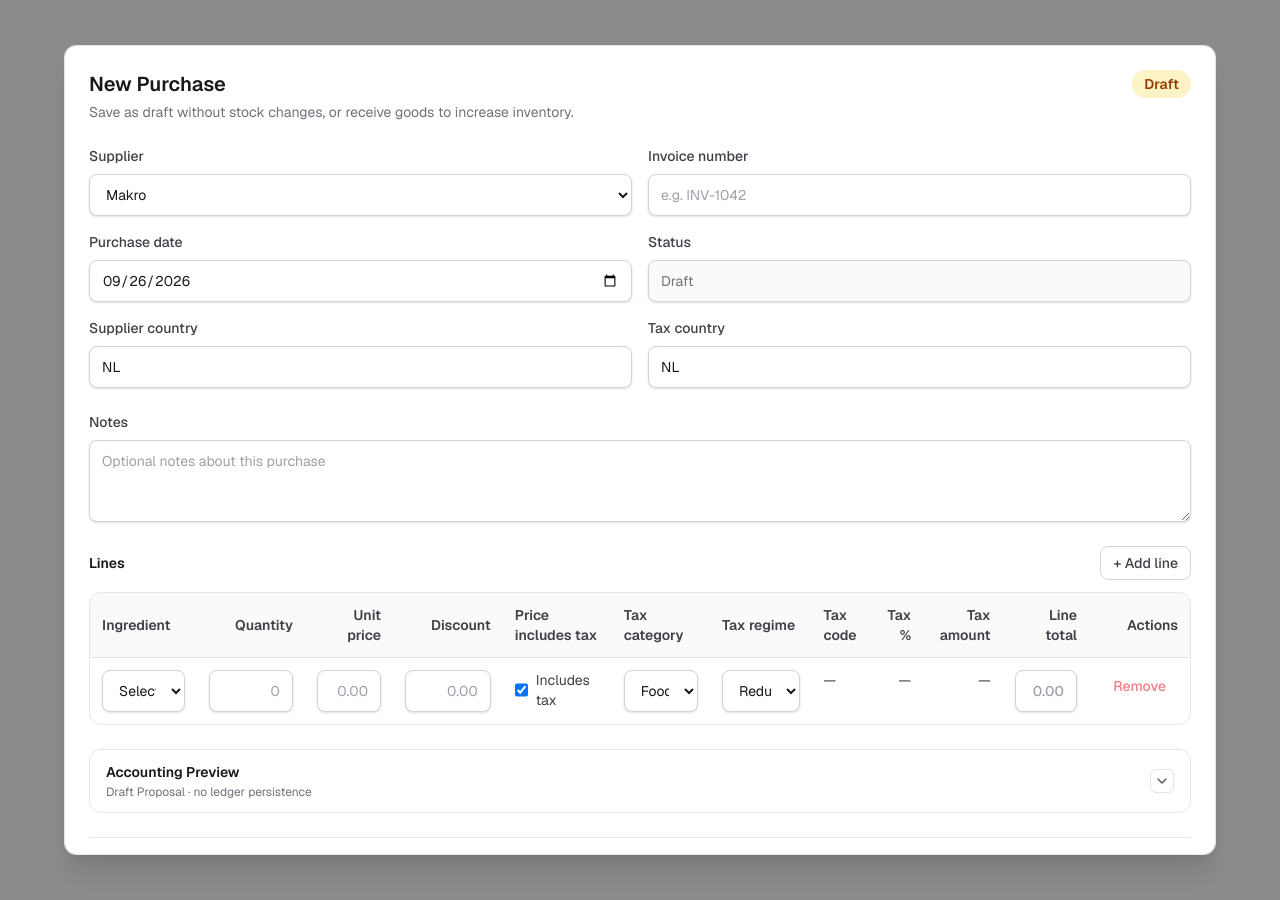
PurchaseDocumentModal last price › keeps a typed line total and the unit price derived from it
Select "Flour (kg)" in the 2nd dropdown: (143, 691) x1=102 y1=670 x2=185 y2=712
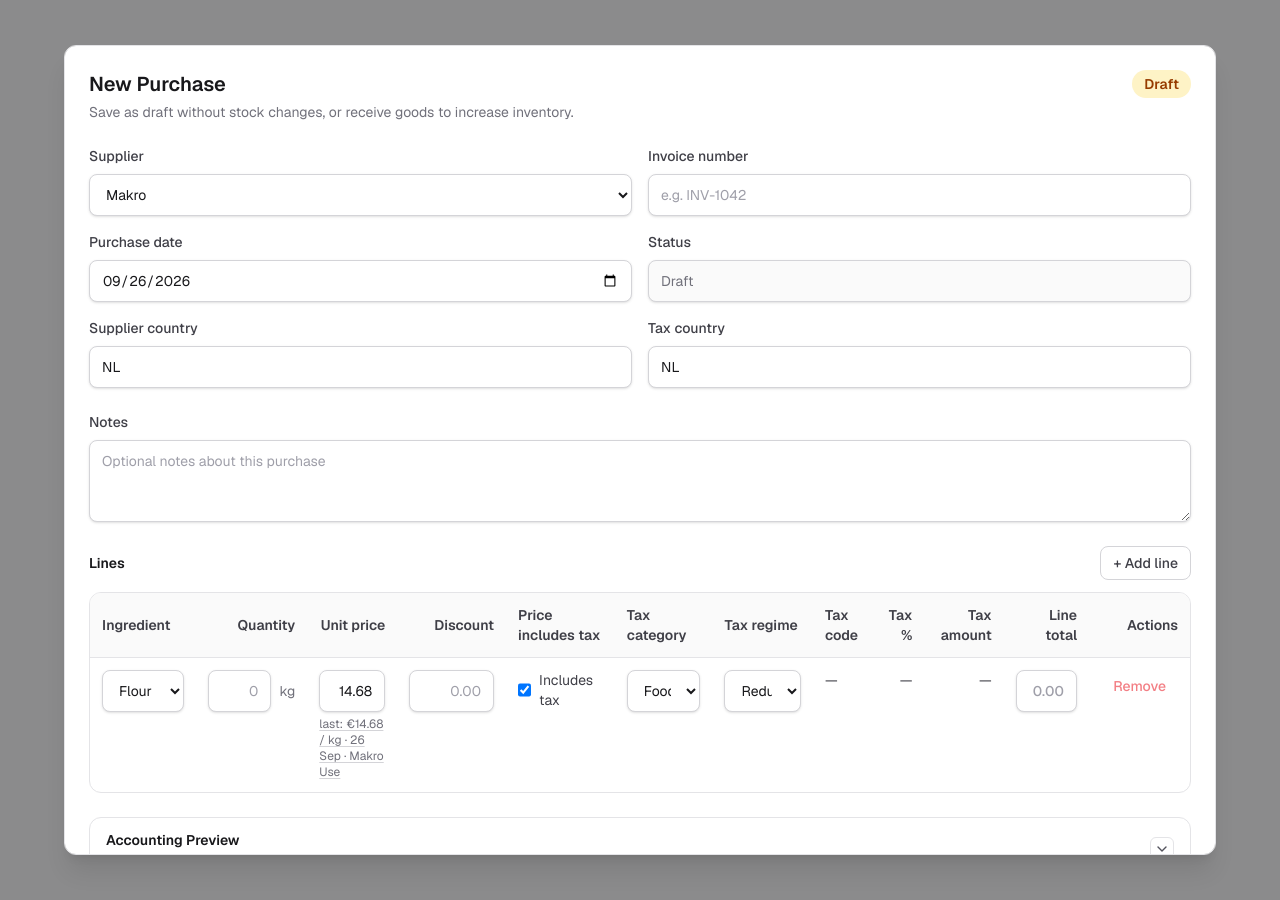
Expected: the field named "Unit price" holds "14.68", x1=319 y1=670 x2=385 y2=712
In the field with placeholder "0": (240, 691) x1=208 y1=670 x2=271 y2=712, type "2"
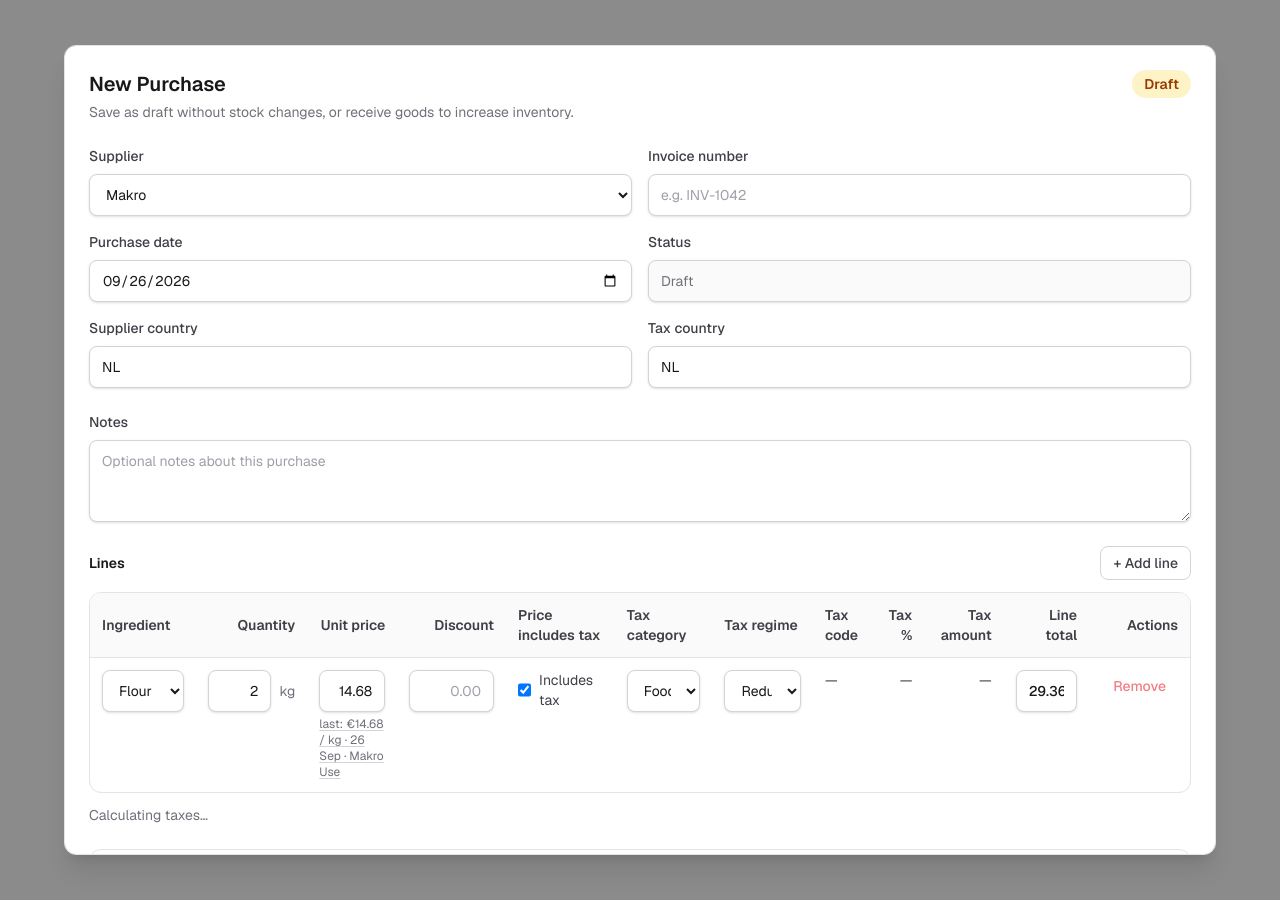
Replace the text in the field named "Line total" with "10": (1046, 691) x1=1016 y1=670 x2=1077 y2=712
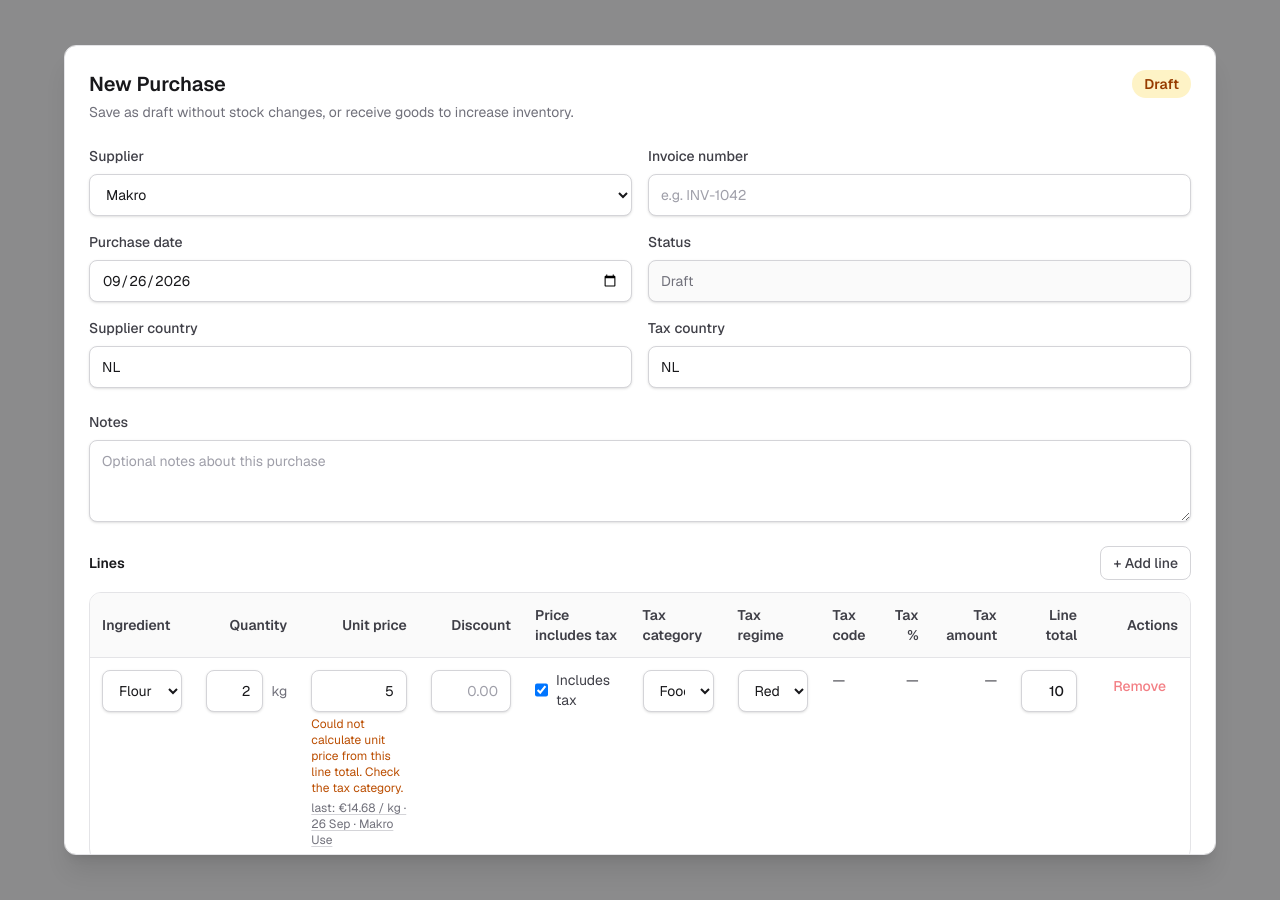
Expected: the field named "Unit price" holds "5", x1=311 y1=670 x2=407 y2=712
